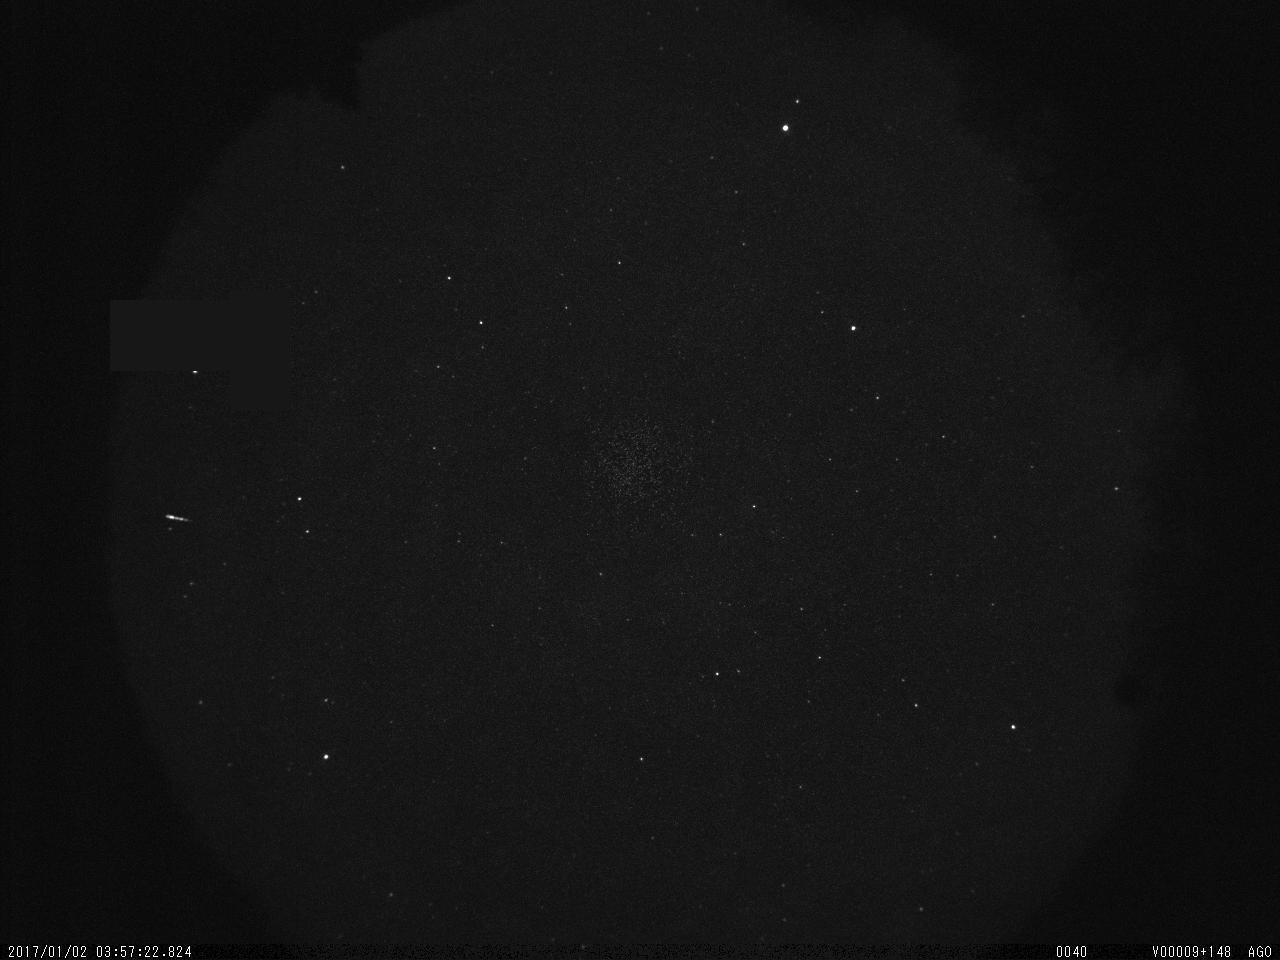Meteor: (163, 510, 191, 522)
